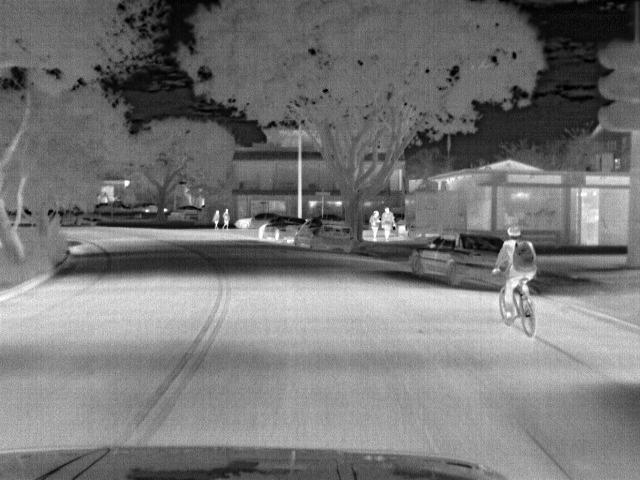car: (408, 230, 501, 287), (300, 211, 365, 256), (254, 216, 307, 243), (230, 210, 285, 226), (75, 211, 98, 227), (174, 202, 203, 214)
person: (492, 227, 536, 322), (379, 203, 399, 243), (368, 206, 382, 248), (209, 208, 222, 230), (219, 207, 231, 229)
